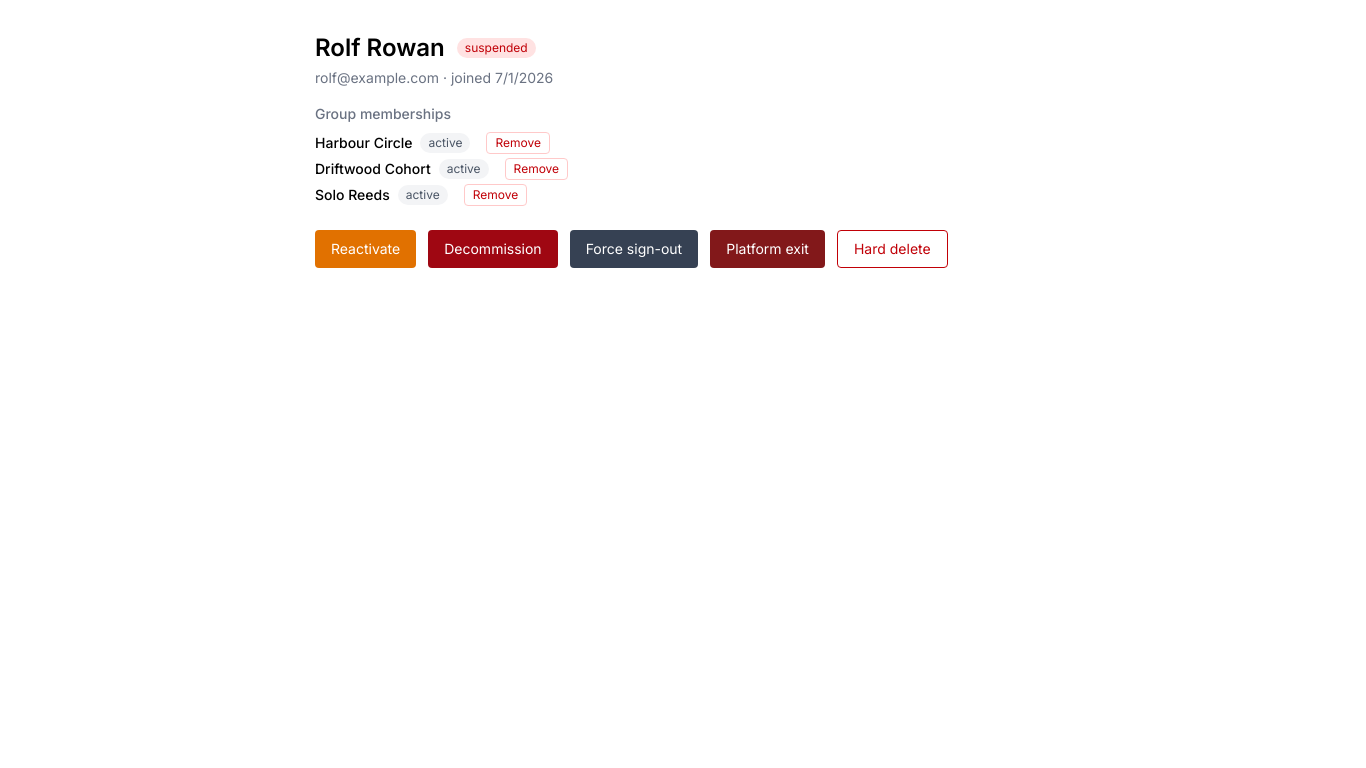
Scenario: AdminMemberDetail (FEAT-H036 STORY-2..6) › STORY-2 suspended member: the Reactivate ceremony copy names the admin hold (origin admin)
The width and height of the screenshot is (1366, 768).
expect the heading "Rolf Rowan" is shown: met, box [315, 32, 445, 64]
Click the button with test id "reactivate-member".
click(366, 249)  # box [315, 230, 416, 268]
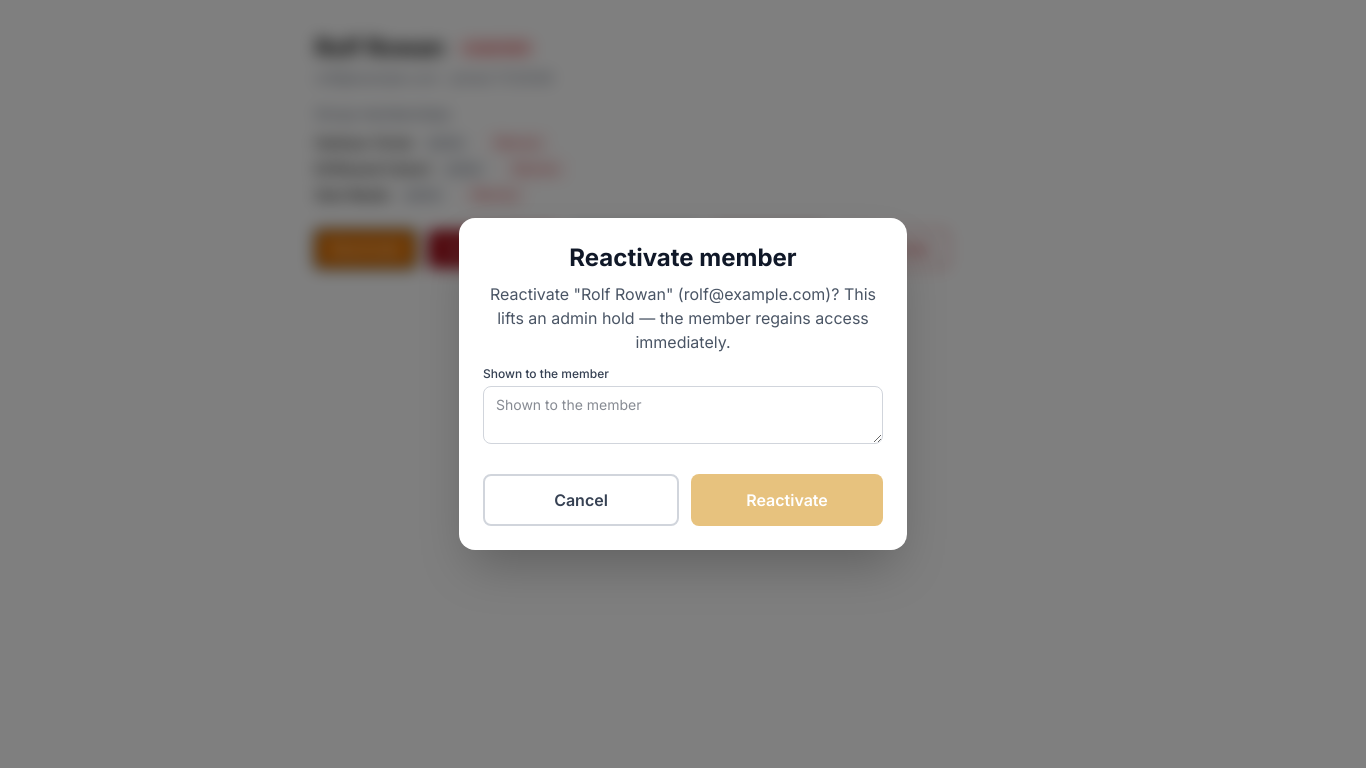
expect the text "admin hold" is shown: met, box [490, 284, 876, 352]
